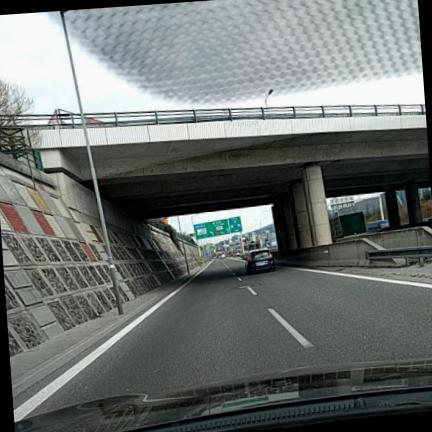Road: (36, 259, 431, 412)
